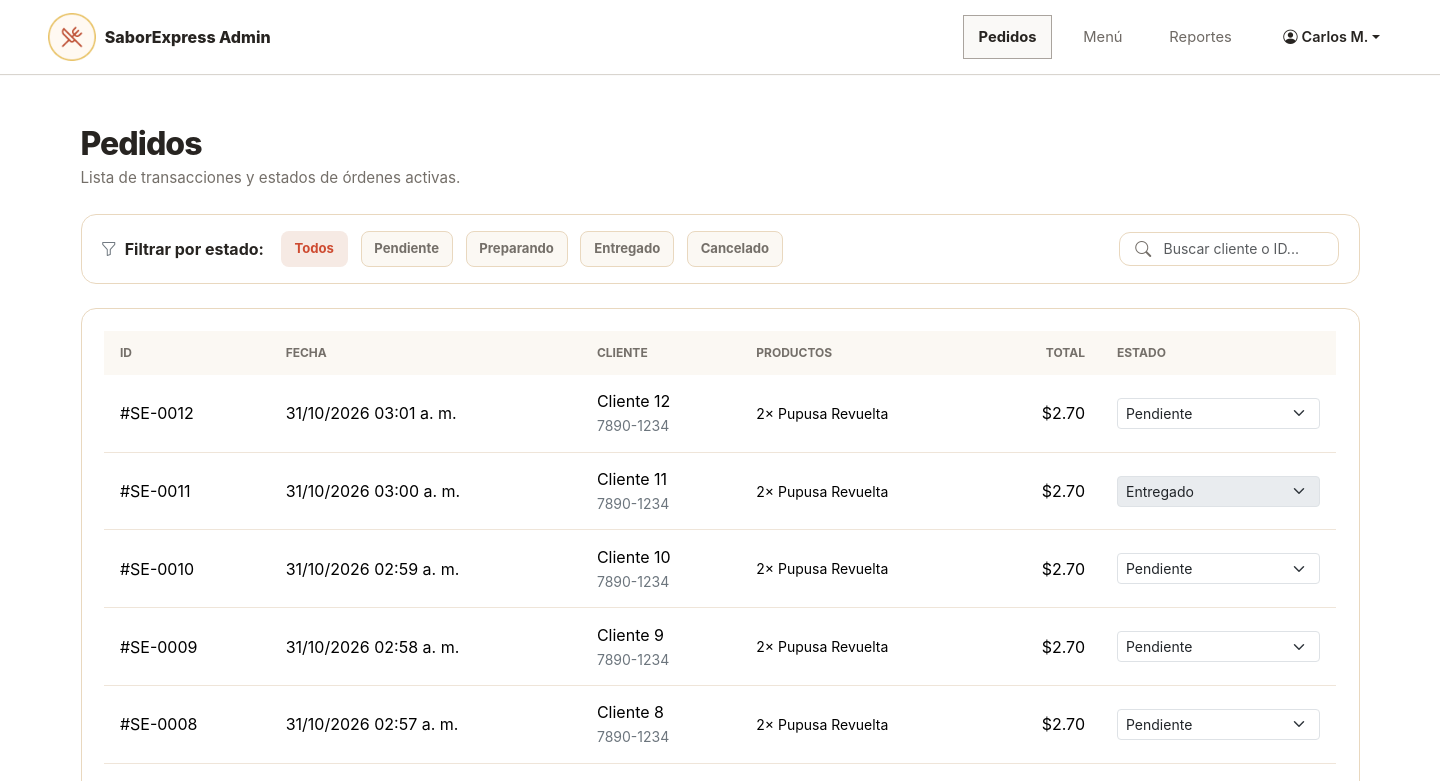
it: Panel de pedidos (administrador) › busca por cliente o por número y avisa cuando no hay coincidencias
Type "cliente 7" into the search field named "Buscar pedido".
click(1229, 249); type("cliente 7")  # box [1119,232,1339,266]
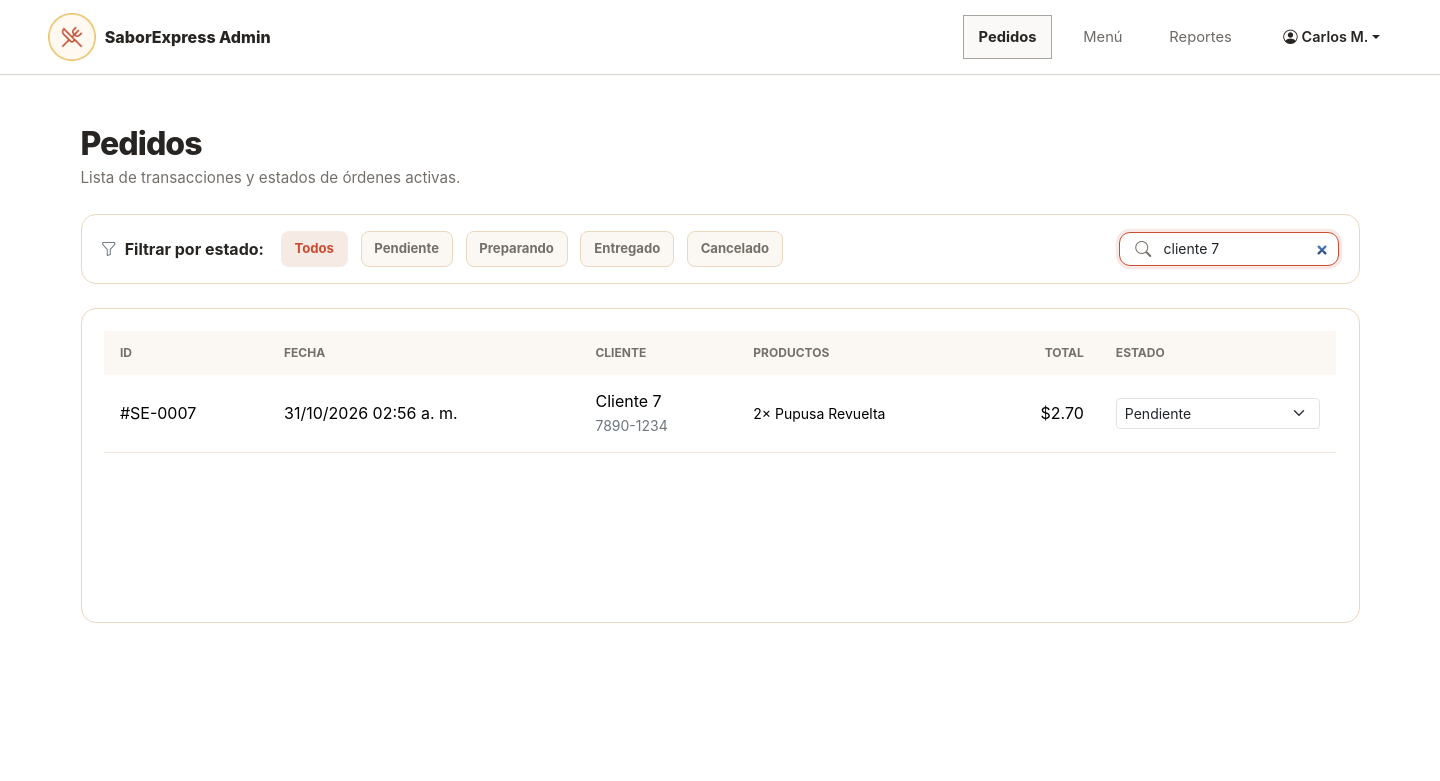
Expected: the number of rows is 2, [104,331,1336,375]; [104,375,1336,452]
Replace the text in the search field named "Buscar pedido" with "SE-0012" at (1229, 249), box [1119,232,1339,266]
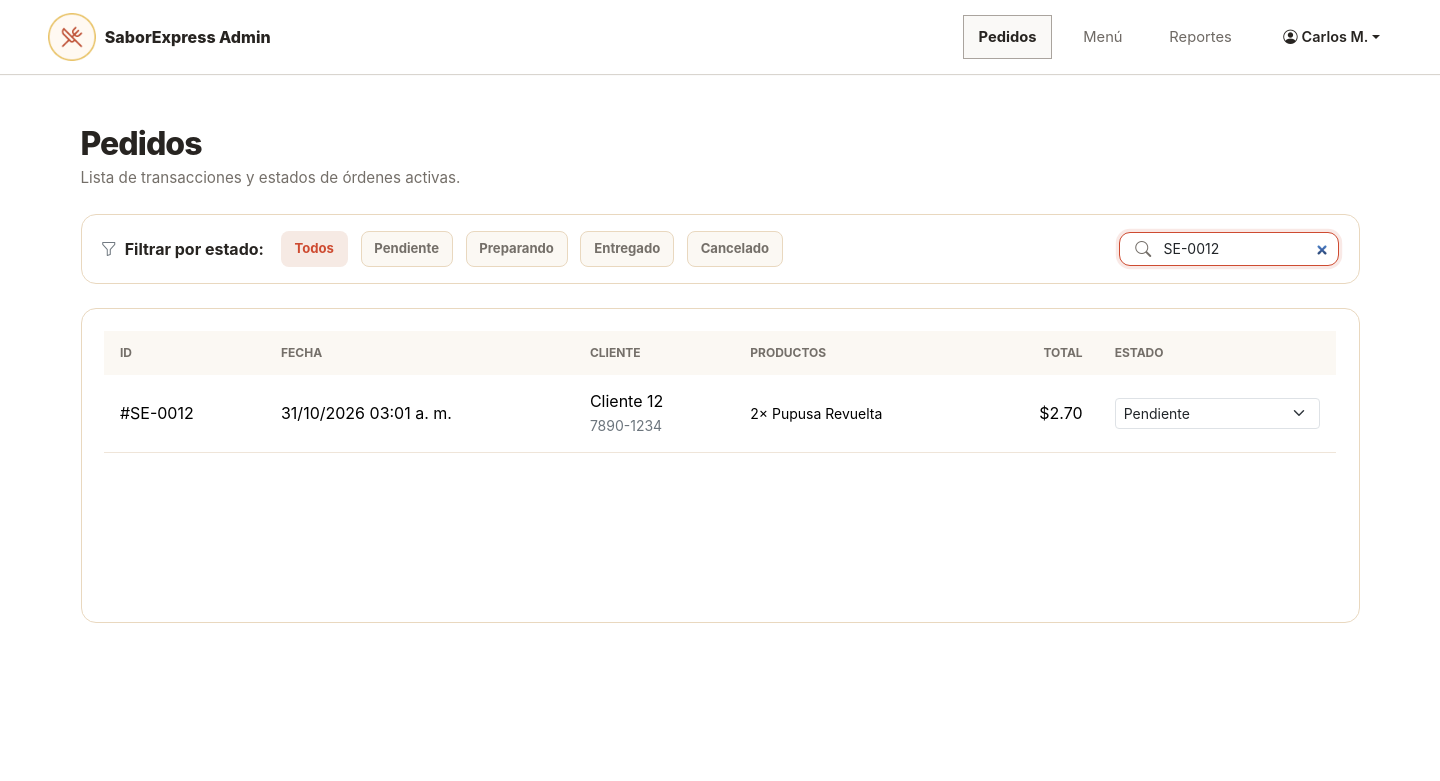
Expected: the number of rows is 2, [104,331,1336,375]; [104,375,1336,452]
Replace the text in the search field named "Buscar pedido" with "nadie" at (1229, 249), box [1119,232,1339,266]
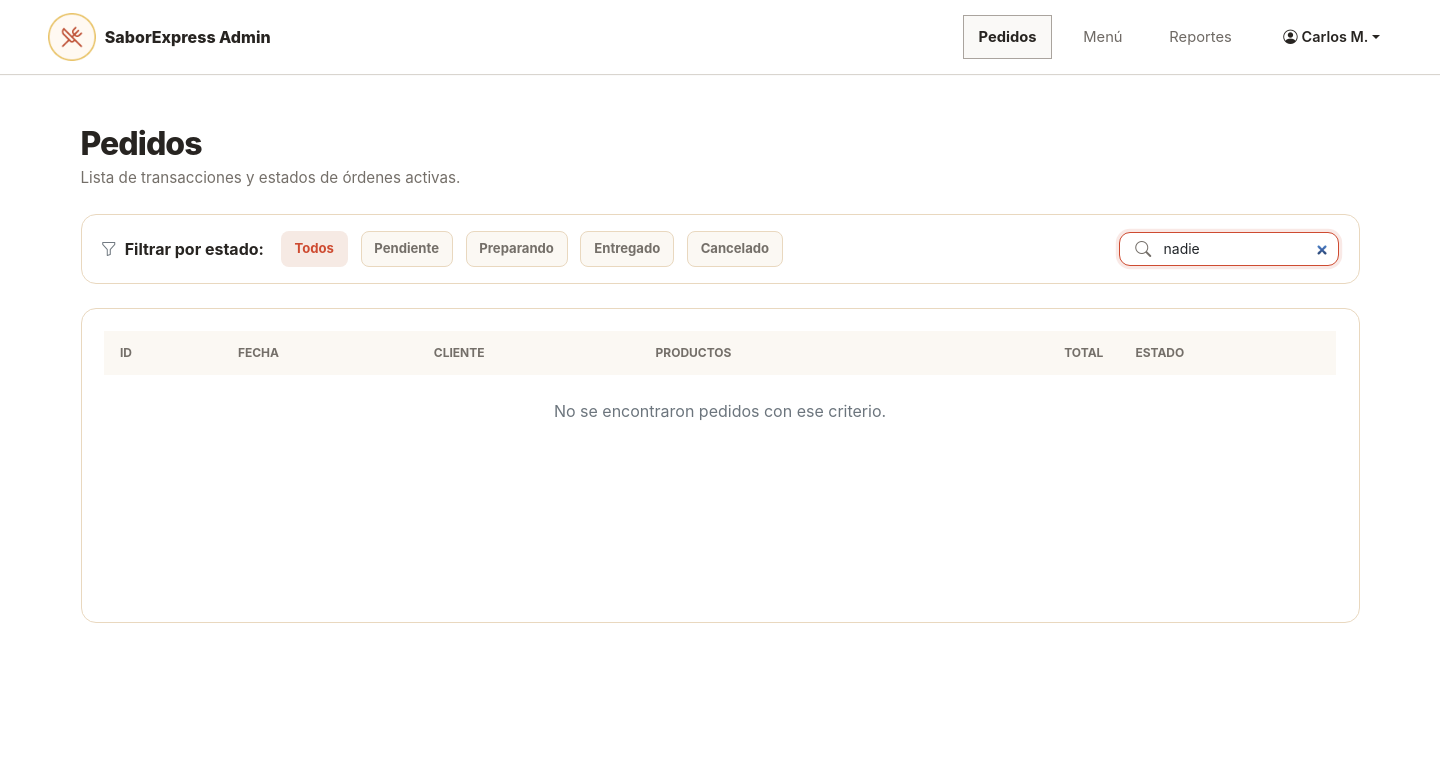
Expected: the text "No se encontraron pedidos con ese criterio." is shown, [554,401,886,421]
